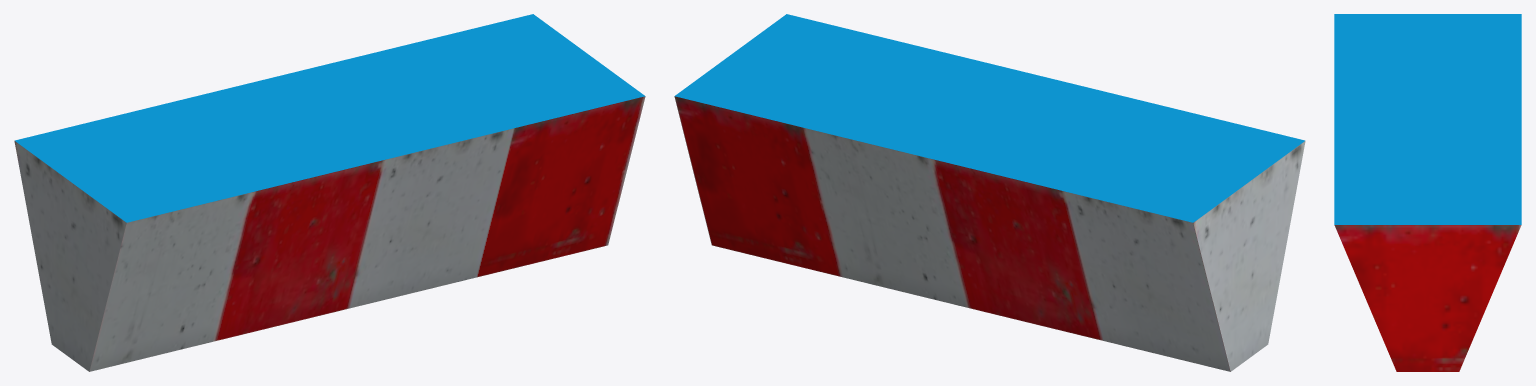
File: Barrier.obj
3 views of the same model, side by side, from view 1: azimuth 30°, elevation 25°; view 2: azimuth 150°, elevation 25°; view 3: azimuth 270°, elevation 25° (orthographic). The views are drawn at different scales.
Parts seen in each view (by area): view 1: Object.1; view 2: Object.1; view 3: Object.1.
Part boxes in pixels (x1=…): Object.1: x1=14, y1=14, x2=645, y2=371; Object.1: x1=674, y1=14, x2=1305, y2=371; Object.1: x1=1334, y1=14, x2=1521, y2=371.
Size of the model in its own units: 267 by 86.67 by 100.
2 materials, 1 textured.
